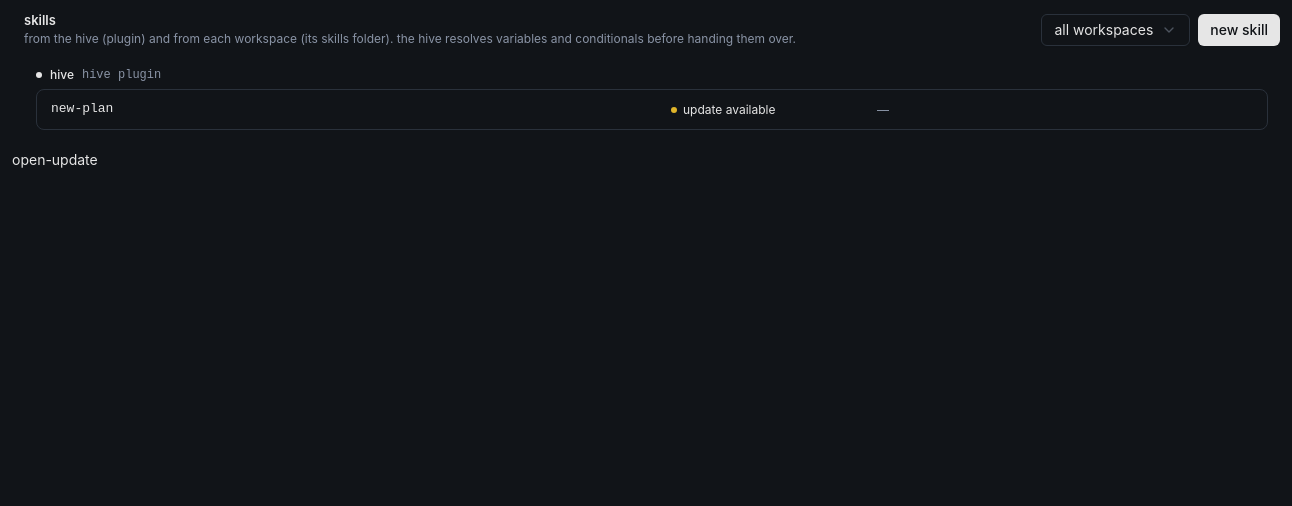
Test: an item in update available heads its chip as a button that opens its first updated version's update; one updated version has no select (#325)
Step 1. Click the button "new-plan update available —" → (82, 109), box left=37, top=90, right=1267, bottom=129
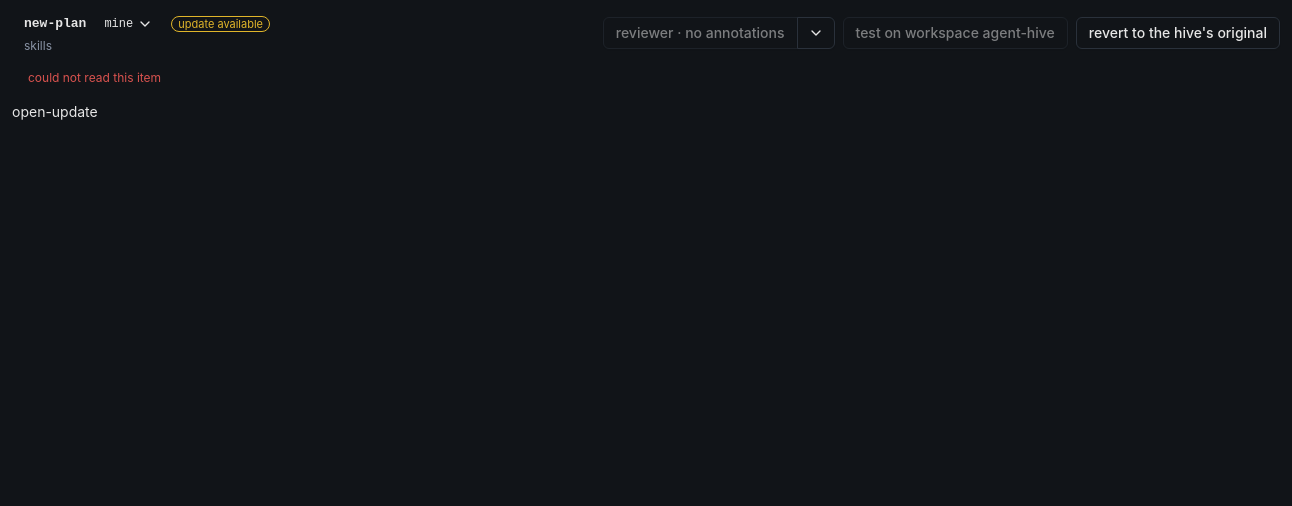
Step 2. Click the button "update available" → (221, 24), box left=171, top=16, right=270, bottom=32
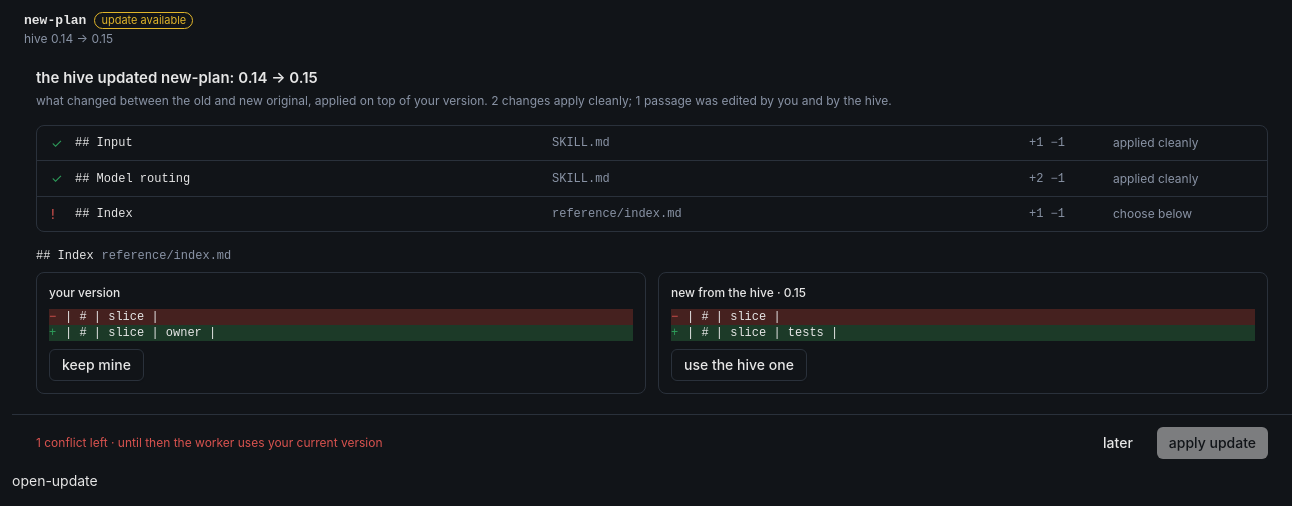
Check: the text "hive 0.14 → 0.15" is shown, box left=24, top=31, right=113, bottom=46
Check: the number of list items is 3, box left=37, top=126, right=1267, bottom=161; left=37, top=161, right=1267, bottom=197; left=51, top=206, right=1192, bottom=222
Check: the element "new from the hive · 0.15" is shown, box left=658, top=272, right=1268, bottom=394
